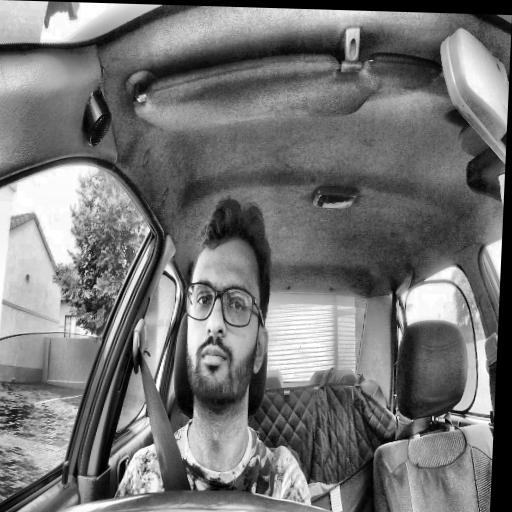awake: (179, 197, 275, 415)
